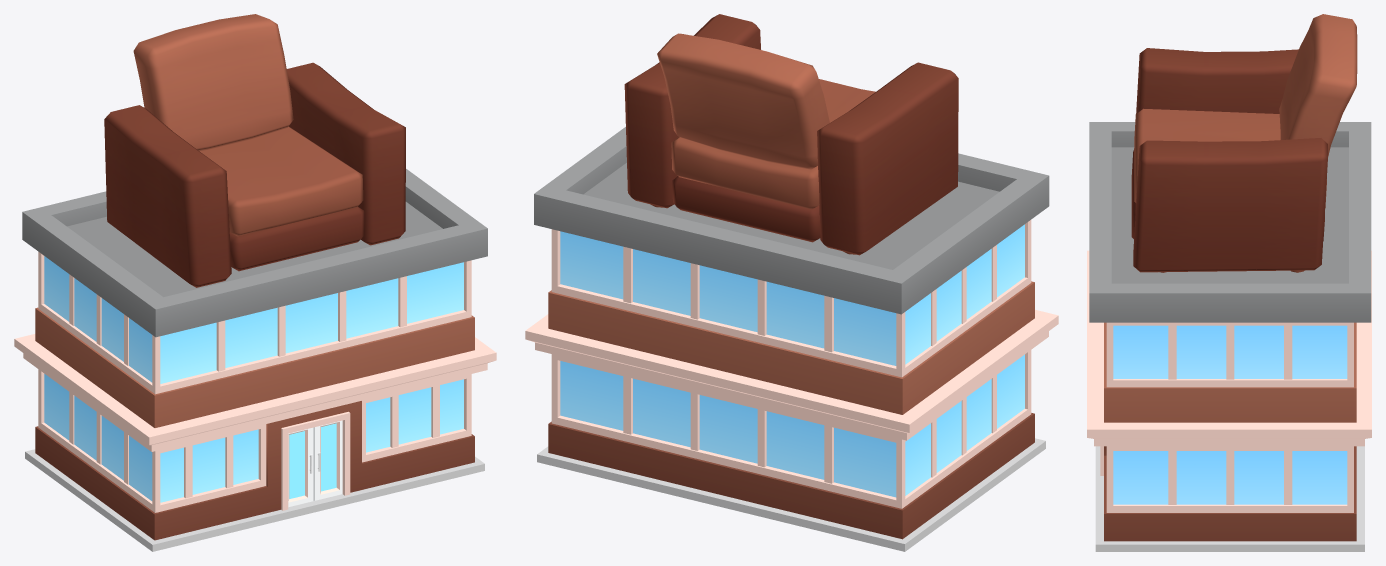
File: Building_Service_01.glb
The picture shows the model from 3 angles, left to right: view 1: azimuth 30°, elevation 25°; view 2: azimuth 150°, elevation 25°; view 3: azimuth 270°, elevation 25°; orthographic projection. The views are drawn at different scales.
Visible parts, largest first — view 1: Building_Service_01; view 2: Building_Service_01; view 3: Building_Service_01.
Part boxes in pixels (<box>): Building_Service_01: <box>14,14,496,551</box>; Building_Service_01: <box>525,14,1058,551</box>; Building_Service_01: <box>1087,14,1371,551</box>.
Size of the model in its own units: 10.3 by 11.41 by 6.92.
1 material, 1 textured.
